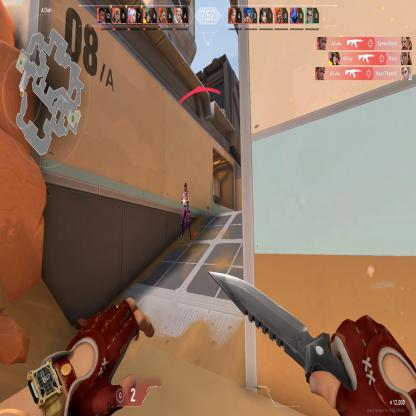enemy: (178, 180, 193, 243)
